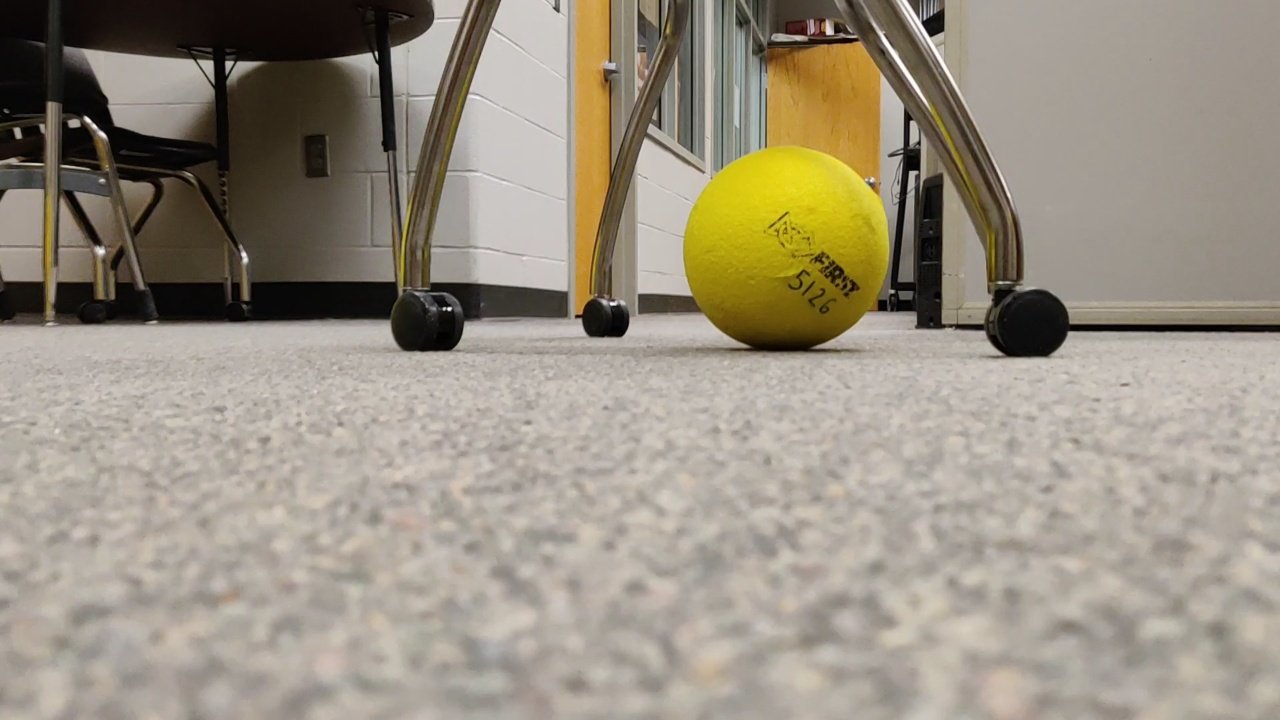Ball: (673, 140, 895, 355)
